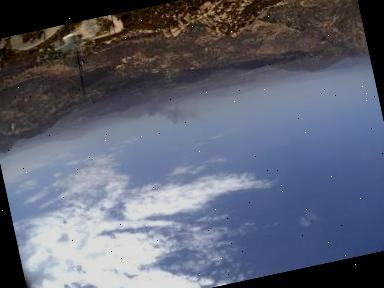smoke: (128, 76, 207, 136)
